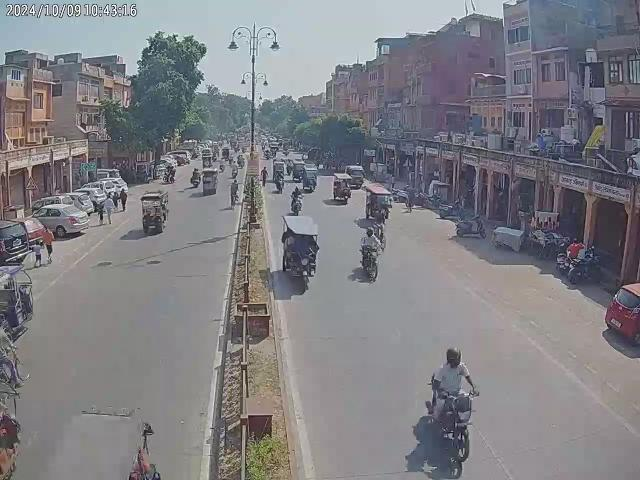auto: (280, 214, 320, 290), (0, 262, 35, 334), (140, 190, 170, 234), (363, 183, 391, 223), (331, 172, 351, 204), (200, 168, 220, 196), (302, 164, 319, 192), (346, 164, 364, 185)
bicycle-rider: (229, 179, 239, 211)
car: (603, 282, 640, 347), (32, 203, 88, 239), (99, 176, 128, 194)
helmet: (444, 346, 464, 370), (366, 226, 374, 238)
motorbike: (568, 252, 602, 288)
motorbike-rider: (424, 344, 481, 478), (358, 226, 384, 282), (290, 186, 304, 216), (162, 165, 176, 183)
person: (41, 224, 55, 266), (32, 240, 44, 267), (105, 194, 114, 224), (96, 204, 106, 226)
scooty: (454, 211, 489, 240), (438, 198, 466, 220)
